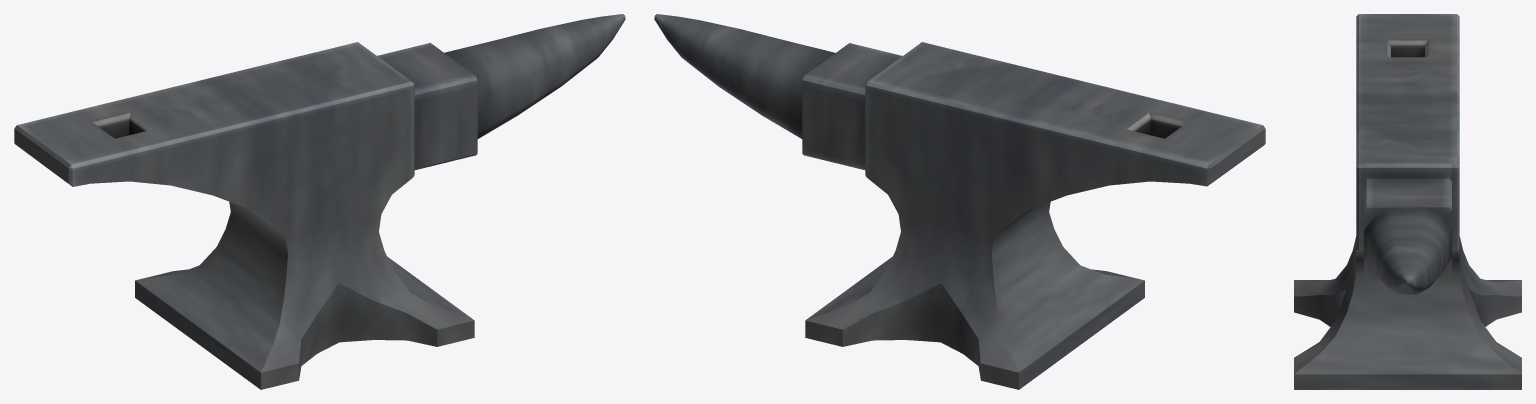
Rendered from anvil.fbx.
3 renders of one model, left to right at view 1: azimuth 30°, elevation 25°; view 2: azimuth 150°, elevation 25°; view 3: azimuth 270°, elevation 25°, orthographic. The views are drawn at different scales.
Visible parts, largest first — view 1: anvil2; view 2: anvil2; view 3: anvil2.
Part boxes in pixels (x1,y1,x2,y2): anvil2: (14,14,625,389); anvil2: (654,14,1265,389); anvil2: (1294,14,1521,389).
Bounding box in the file's own units: 44.1 × 17.08 × 16.5.
